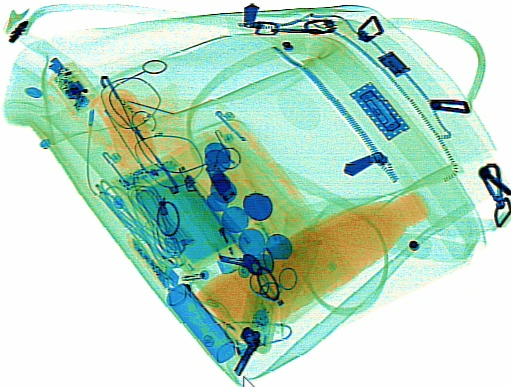lighter: (184, 182, 243, 274)
